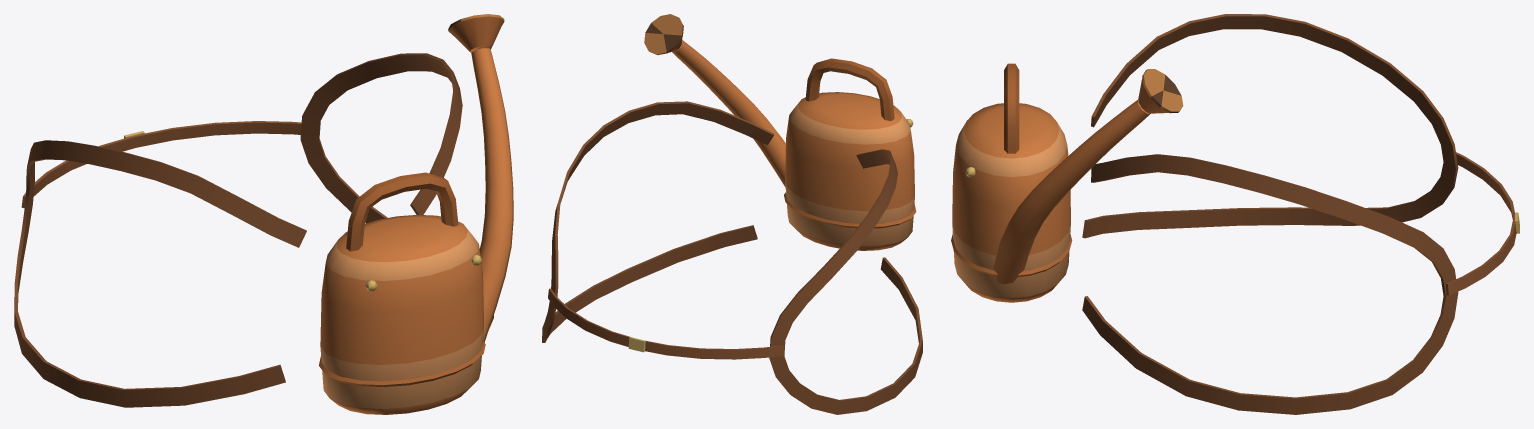
The picture shows the model from 3 angles, left to right: view 1: azimuth 30°, elevation 25°; view 2: azimuth 150°, elevation 25°; view 3: azimuth 270°, elevation 25°; orthographic projection. The views are drawn at different scales.
Visible parts, largest first — view 1: a_canpack_metal, a_canpack; view 2: a_canpack_metal, a_canpack; view 3: a_canpack, a_canpack_metal.
Part boxes in pixels (bbox=[...]): a_canpack_metal: bbox=[124, 16, 513, 414]; a_canpack: bbox=[14, 14, 504, 407]; a_canpack_metal: bbox=[628, 38, 916, 352]; a_canpack: bbox=[542, 14, 922, 414]; a_canpack: bbox=[1082, 14, 1516, 414]; a_canpack_metal: bbox=[951, 63, 1519, 302].
Size of the model in its own units: 1.11 by 0.8582 by 1.4.
